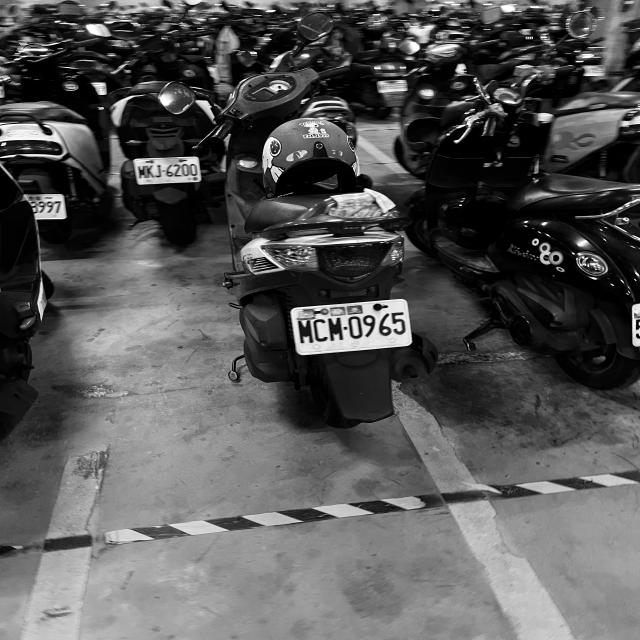-: (343, 326, 349, 331), (162, 170, 166, 172)
0: (347, 315, 364, 340), (189, 163, 199, 177), (181, 164, 190, 177)
2: (173, 164, 183, 177)
5: (391, 310, 407, 336)
6: (378, 312, 394, 337), (166, 164, 174, 177)
7: (54, 201, 62, 214)
9: (361, 314, 376, 339), (46, 202, 54, 214), (38, 201, 46, 213)
C: (312, 318, 329, 343)
J: (155, 165, 163, 179)
K: (146, 164, 155, 178)
M: (326, 317, 345, 342), (297, 319, 314, 344), (137, 165, 147, 179)
plate: (292, 301, 410, 354), (136, 158, 202, 182)
